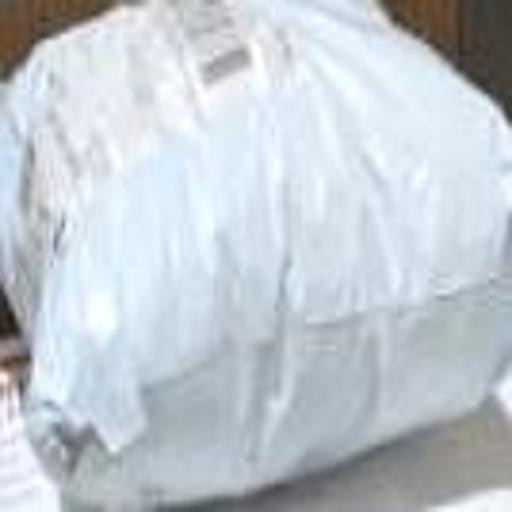Other: (24, 31, 477, 482)
